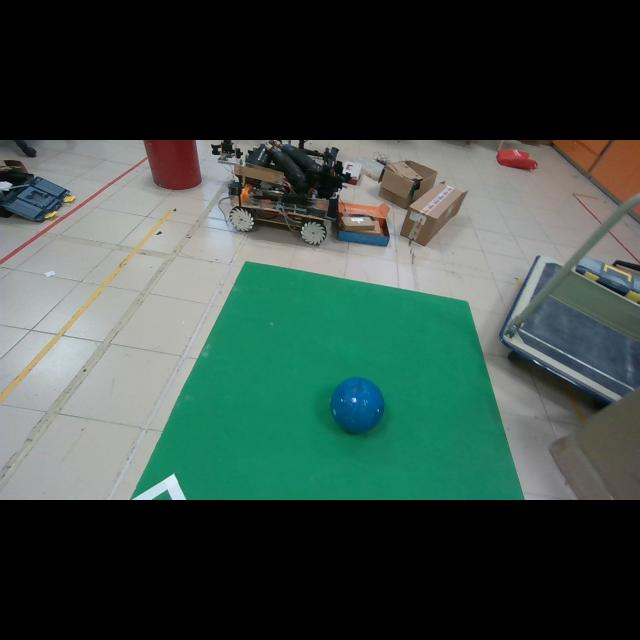B: (330, 378, 385, 433)
